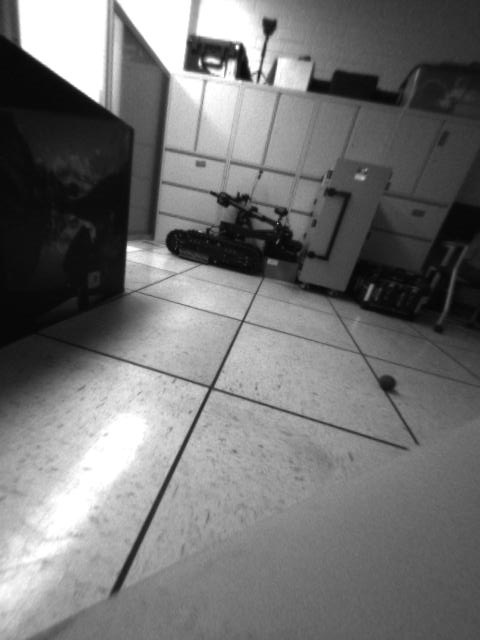dogtoy: (374, 367, 404, 396)
